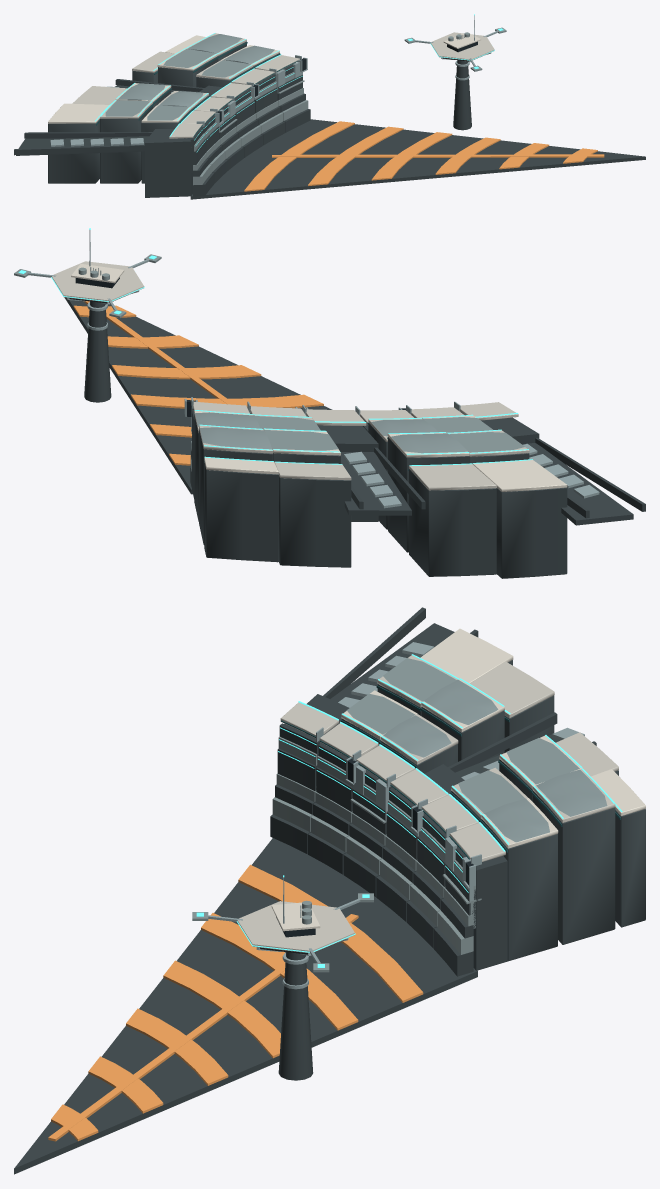
File: Weather_Lung_Sector_04.glb
3 renders of one model, top to bottom at view 1: azimuth 30°, elevation 25°; view 2: azimuth 150°, elevation 25°; view 3: azimuth 270°, elevation 25°, orthographic. The views are drawn at different scales.
Parts seen in each view (by area): view 1: Weather_Lung_Sector_04; view 2: Weather_Lung_Sector_04; view 3: Weather_Lung_Sector_04.
Boxes of the visible parts, x1,y1,x2,y2 form: Weather_Lung_Sector_04: (14, 14, 645, 199); Weather_Lung_Sector_04: (14, 228, 645, 578); Weather_Lung_Sector_04: (14, 607, 645, 1174).
Bounding box in the file's own units: 11731 × 2484 × 6725.
